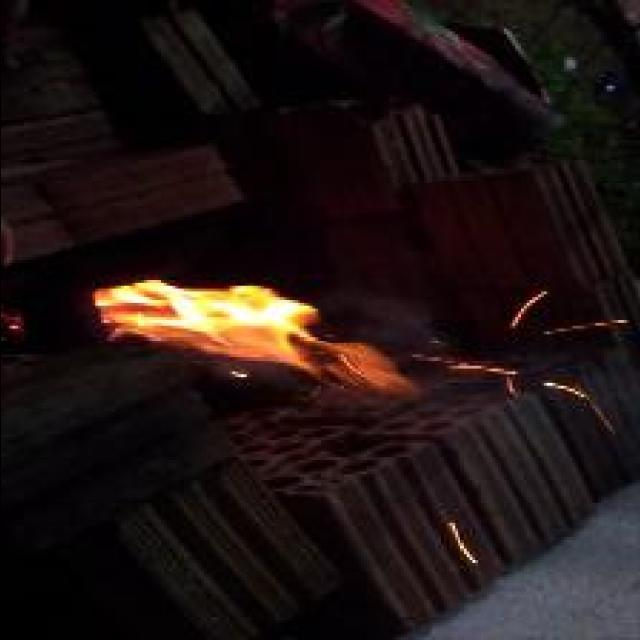Fire: (96, 280, 418, 394)
